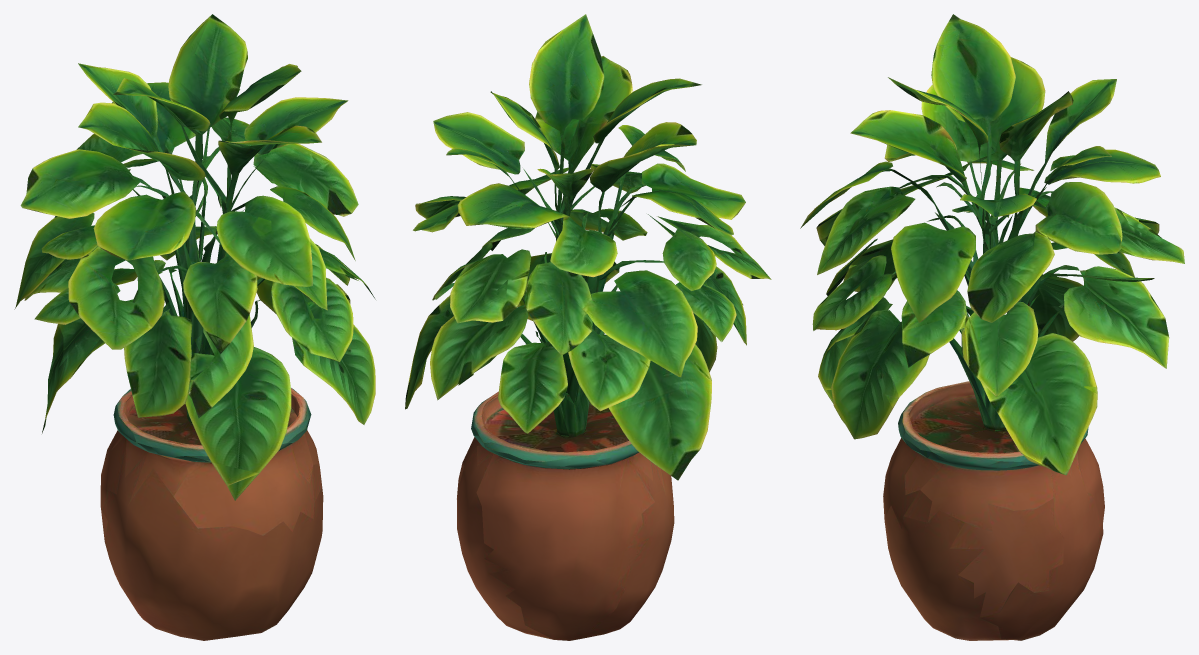
Rendered from potted-plant.glb.
3 renders of one model, left to right at view 1: azimuth 30°, elevation 25°; view 2: azimuth 150°, elevation 25°; view 3: azimuth 270°, elevation 25°, orthographic. The views are drawn at different scales.
Size of the model in its own units: 0.6027 by 1 by 0.6315.
Materials: 1 (1 with a texture image).
